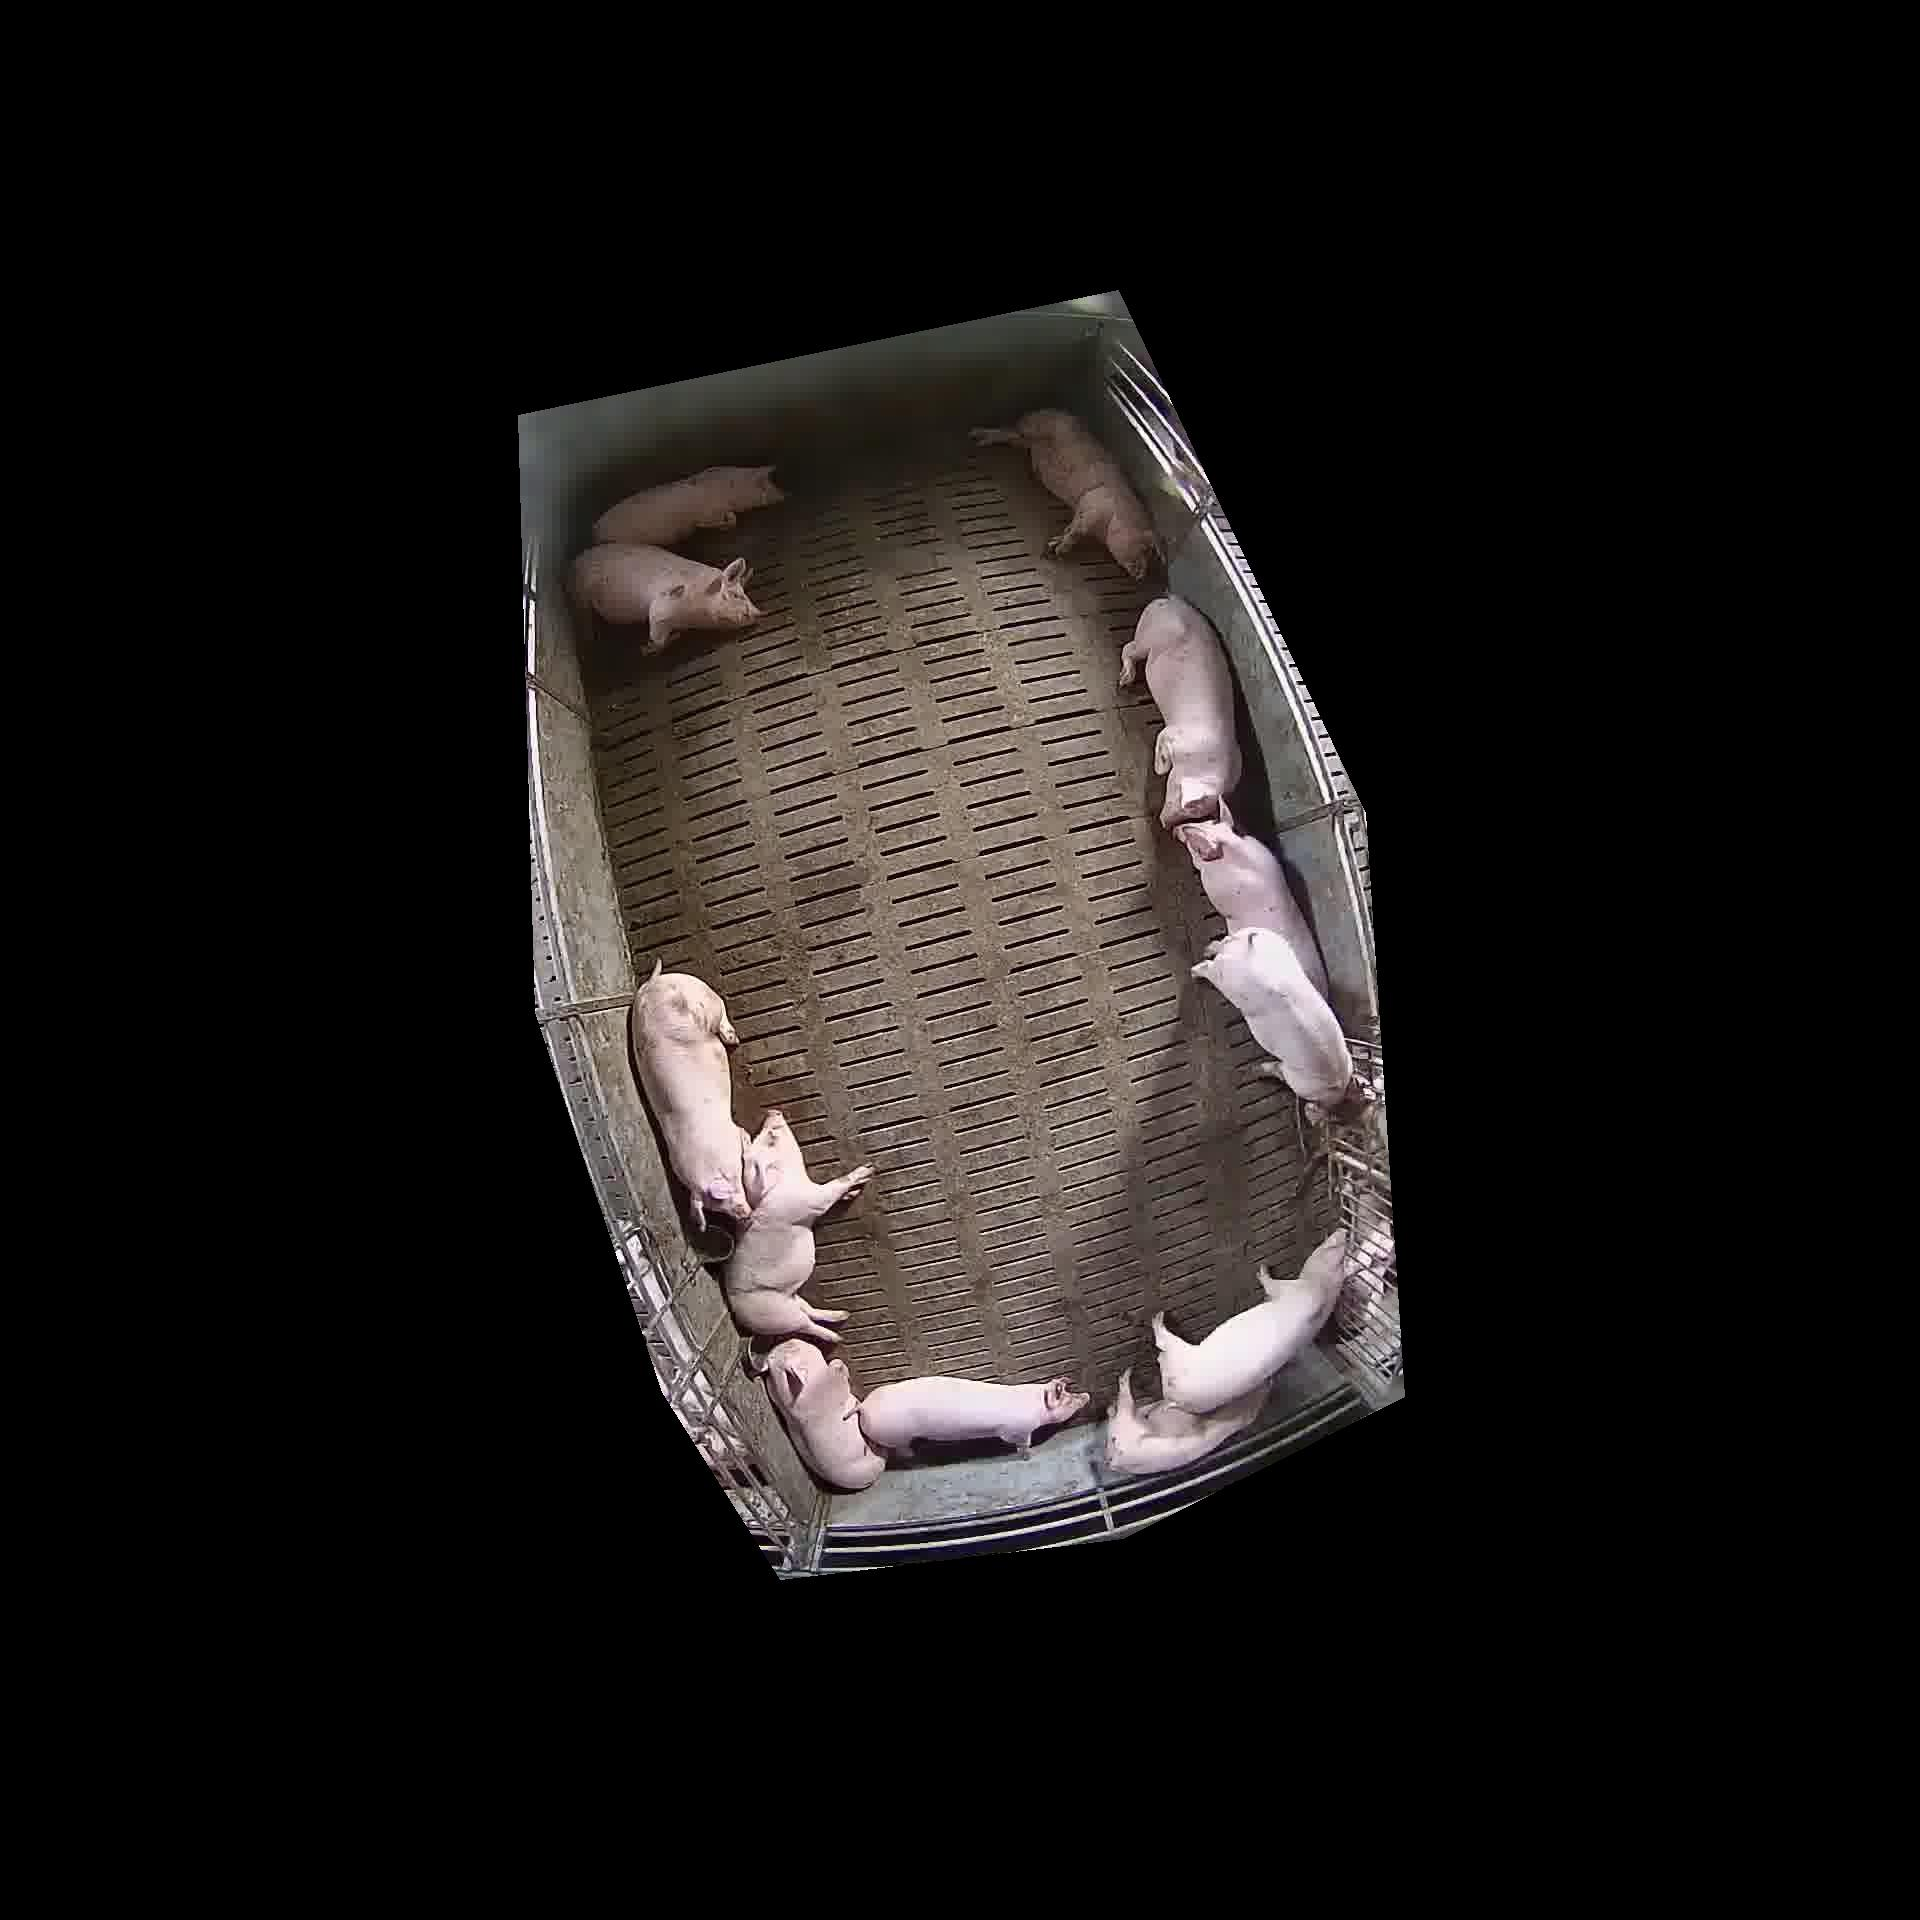pig: (763, 1340, 1088, 1489), (1152, 1229, 1347, 1414), (724, 1109, 872, 1342), (631, 962, 751, 1229), (972, 410, 1159, 578), (1176, 793, 1326, 993), (1118, 594, 1240, 826), (1194, 927, 1350, 1104), (571, 543, 760, 652), (763, 1340, 884, 1489), (860, 1377, 1088, 1456), (1102, 1366, 1261, 1472), (593, 466, 782, 547)
